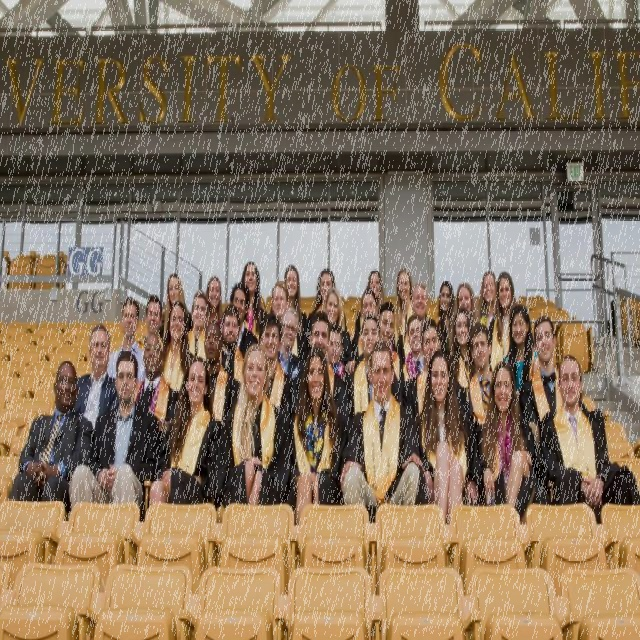pessoa: (540, 354, 640, 526), (68, 348, 162, 514), (338, 340, 426, 506), (7, 359, 95, 517), (216, 344, 292, 506), (410, 319, 474, 507), (285, 347, 350, 530), (416, 348, 482, 526), (150, 357, 224, 509), (475, 360, 536, 522), (348, 313, 404, 418), (70, 322, 121, 437), (154, 300, 198, 433), (518, 313, 564, 428), (308, 310, 351, 428), (105, 296, 147, 386), (446, 309, 478, 427), (464, 320, 498, 430), (258, 312, 292, 419), (501, 304, 539, 394), (282, 263, 312, 367), (203, 322, 232, 429), (488, 270, 518, 373), (158, 272, 194, 347), (132, 333, 164, 417), (270, 281, 304, 360), (228, 281, 261, 362), (307, 268, 348, 332), (238, 261, 267, 342), (218, 304, 246, 386), (276, 304, 304, 382), (356, 268, 384, 338), (434, 280, 458, 357), (400, 314, 424, 389), (474, 270, 501, 333), (393, 266, 414, 346), (136, 294, 164, 352), (186, 291, 208, 363), (326, 322, 346, 383), (323, 286, 346, 332), (204, 274, 224, 326), (456, 281, 478, 325), (376, 301, 396, 346), (410, 280, 429, 327), (361, 288, 378, 322)
